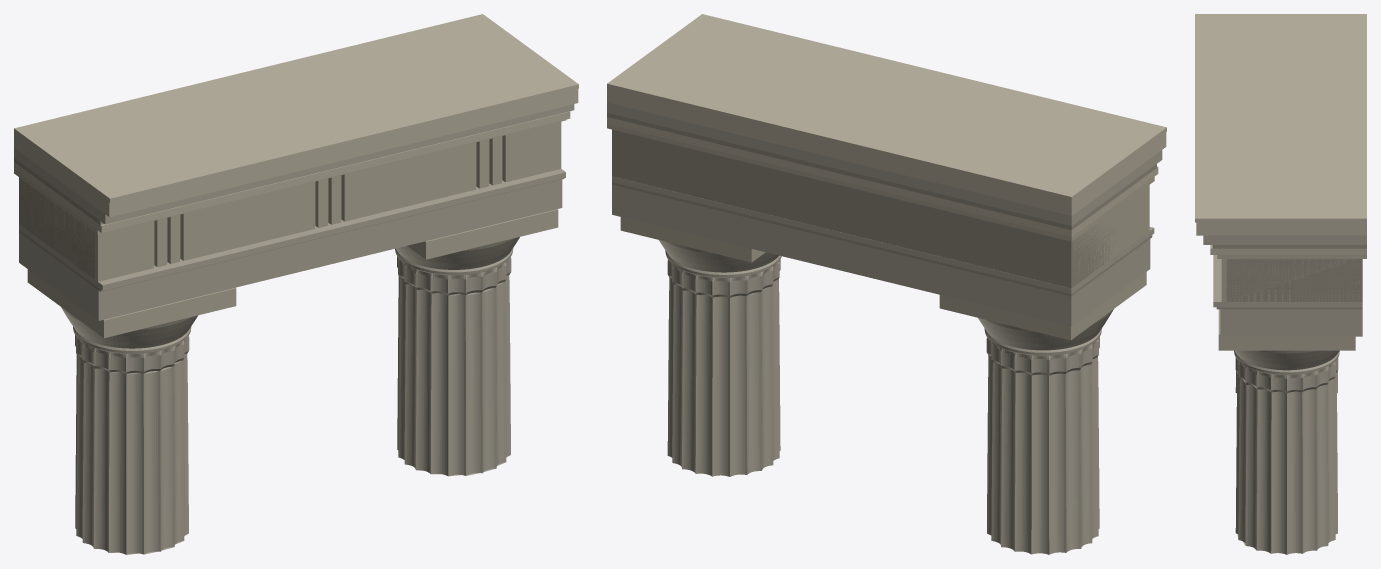
File: huangpu-fair-building-dianchi-fluted-capitals-web.glb
3 renders of one model, left to right at view 1: azimuth 30°, elevation 25°; view 2: azimuth 150°, elevation 25°; view 3: azimuth 270°, elevation 25°, orthographic. The views are drawn at different scales.
Parts seen in each view (by area): view 1: 公平大楼滇池路巨柱柱头与三槽檐带; view 2: 公平大楼滇池路巨柱柱头与三槽檐带; view 3: 公平大楼滇池路巨柱柱头与三槽檐带.
Part boxes in pixels (left/top/right/bottom): 公平大楼滇池路巨柱柱头与三槽檐带: left=14, top=14, right=578, bottom=554; 公平大楼滇池路巨柱柱头与三槽檐带: left=607, top=14, right=1166, bottom=554; 公平大楼滇池路巨柱柱头与三槽檐带: left=1195, top=14, right=1366, bottom=554.
Size of the model in its own units: 2.59 by 2.05 by 0.92.
